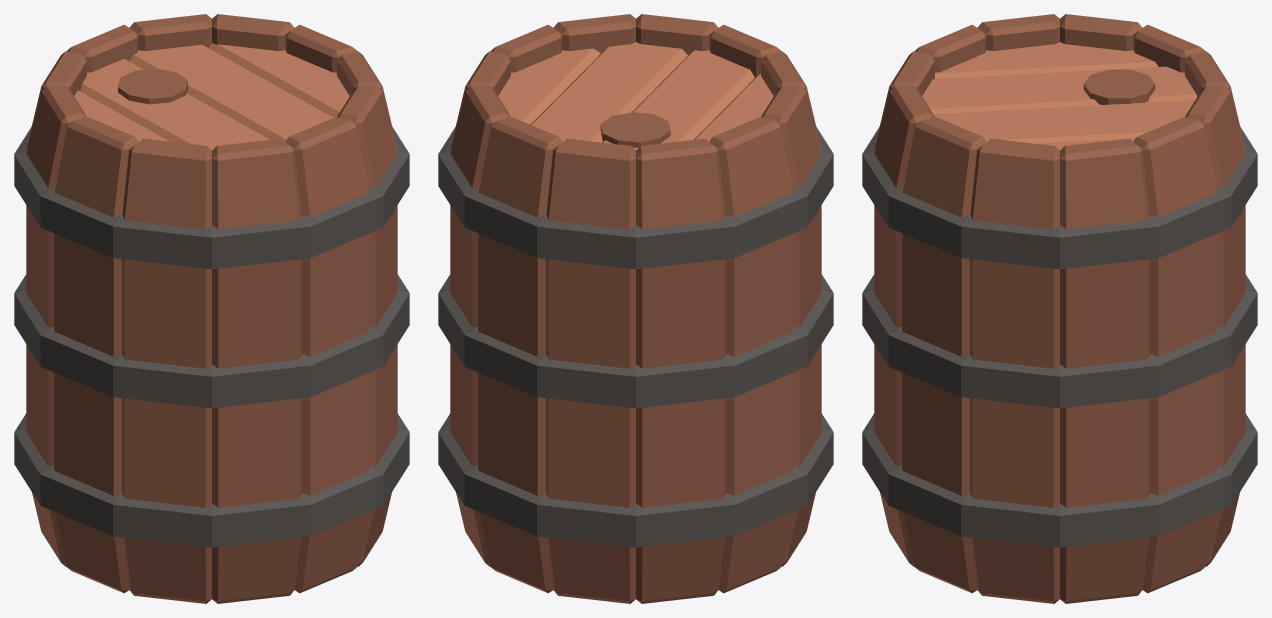
The model's file is Barrel.glb.
3 views of the same model, side by side, from view 1: azimuth 30°, elevation 25°; view 2: azimuth 150°, elevation 25°; view 3: azimuth 270°, elevation 25° (orthographic).
Visible parts, largest first — view 1: Barrel; view 2: Barrel; view 3: Barrel.
Part boxes in pixels (x1,y1,x2,y2): Barrel: (14,14,409,603); Barrel: (438,14,833,603); Barrel: (862,14,1257,603).
Bounding box in the file's own units: 85.3 × 107 × 85.19.
